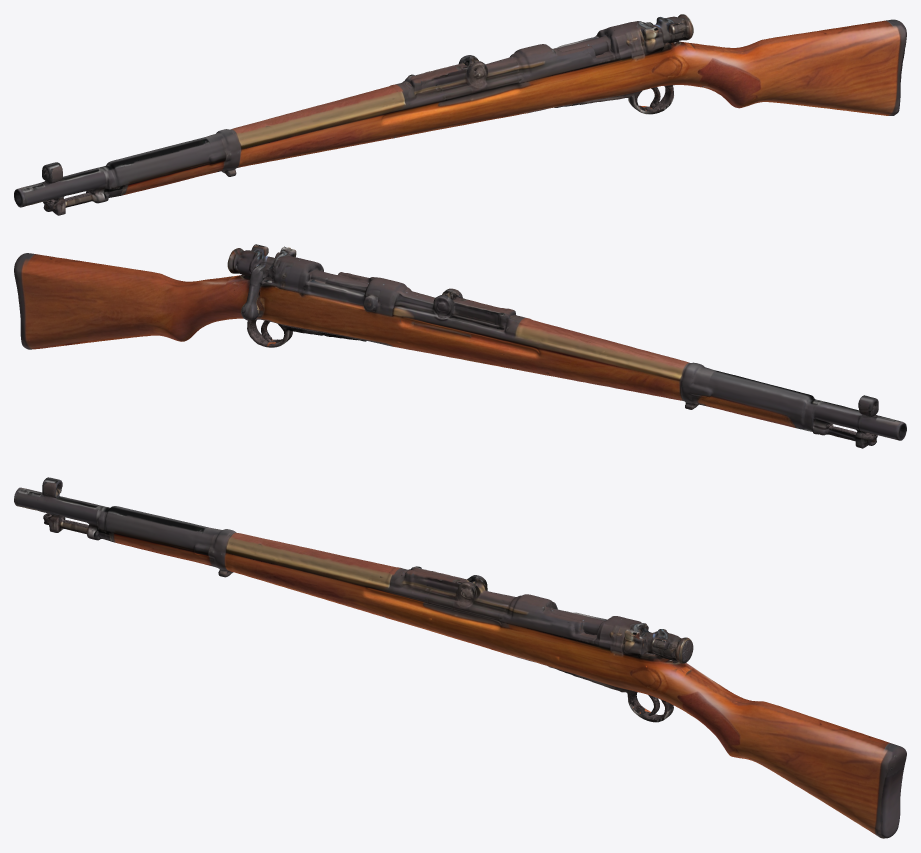
The model's file is Type_38_rifle_1030144954_texture.fbx.
3 renders of one model, top to bottom at view 1: azimuth 30°, elevation 25°; view 2: azimuth 150°, elevation 25°; view 3: azimuth 330°, elevation 25°, orthographic.
Visible parts, largest first — view 1: input; view 2: input; view 3: input.
Boxes of the visible parts, left/top/right/bottom form: input: left=14, top=14, right=906, bottom=215; input: left=14, top=244, right=906, bottom=448; input: left=14, top=477, right=906, bottom=838.
Size of the model in its own units: 190 by 32.16 by 12.6.
Materials: 1 (1 with a texture image).
